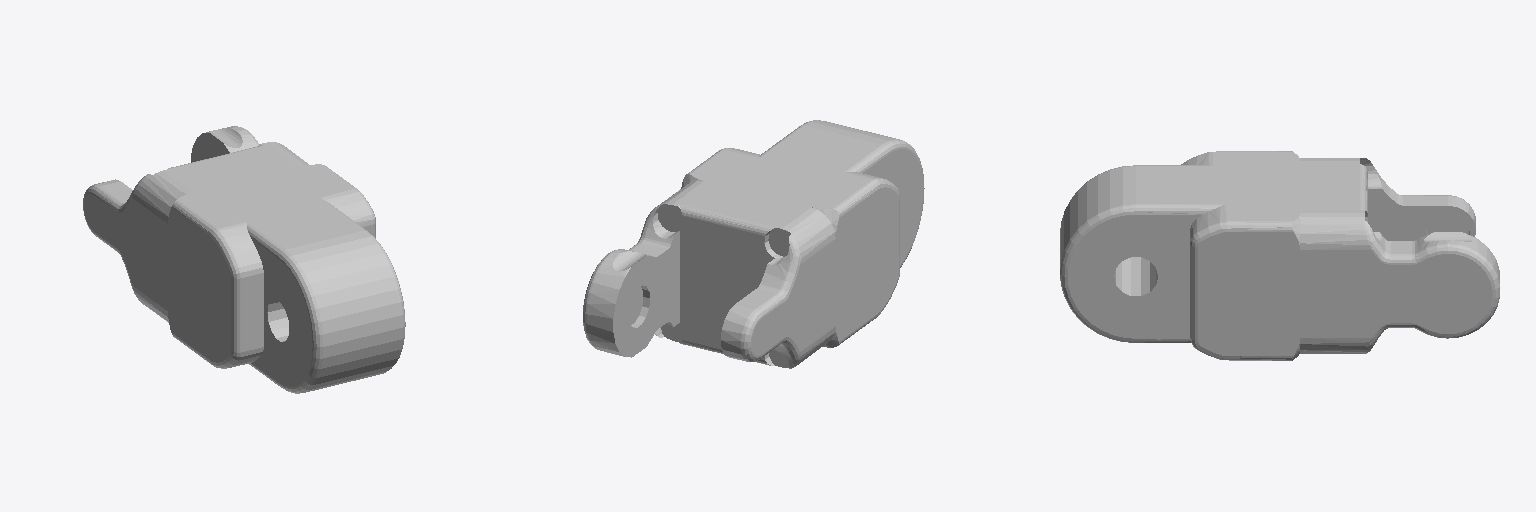
The model's file is tesollo_right_rl_dg_1_3_visuals_rl_dg_1_3_mesh.obj.
3 renders of one model, left to right at view 1: azimuth 30°, elevation 25°; view 2: azimuth 150°, elevation 25°; view 3: azimuth 270°, elevation 25°, orthographic.
Bounding box in the file's own units: 0.0224 × 0.019 × 0.0548.